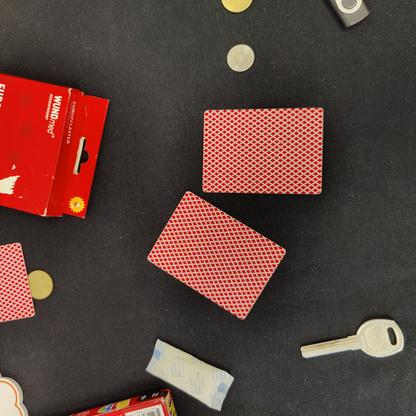card: (141, 189, 291, 327), (194, 103, 330, 199)
